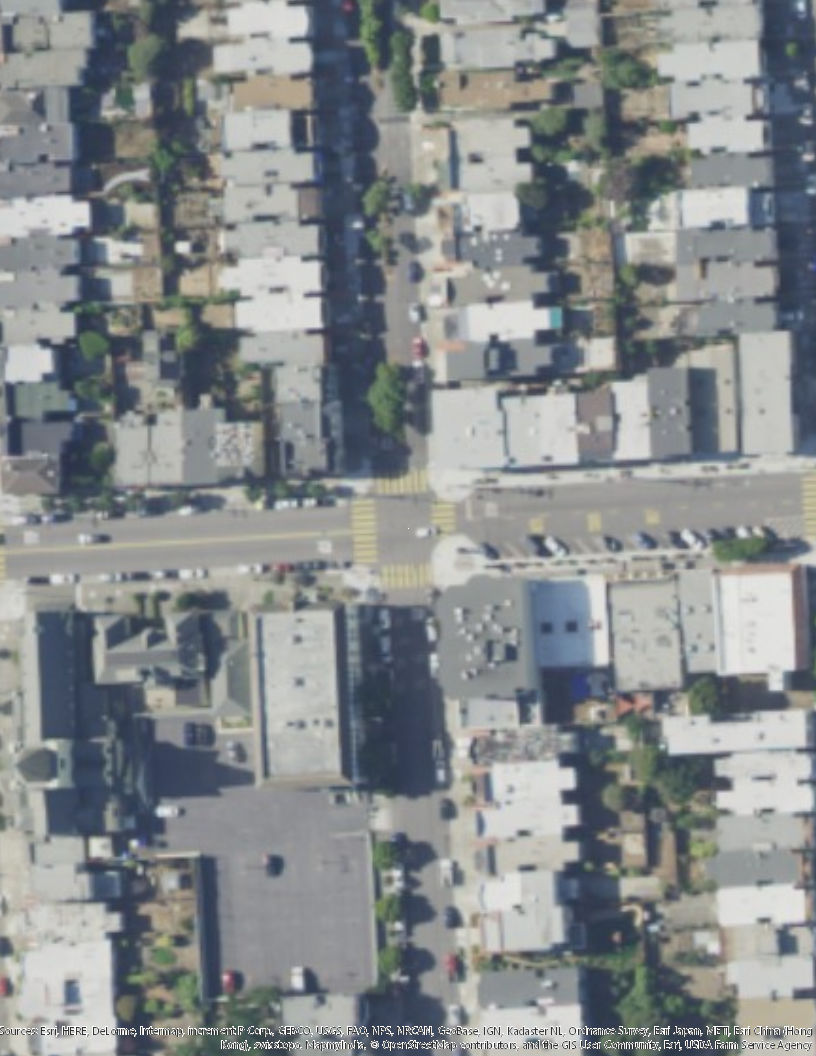zebracross: (348, 492, 380, 567), (372, 465, 434, 497), (373, 560, 432, 591), (800, 471, 816, 537), (434, 495, 460, 533)
